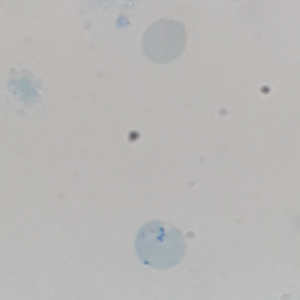aggregate reticulocyte: (133, 218, 187, 271)
erythrocyte: (139, 17, 190, 67)
